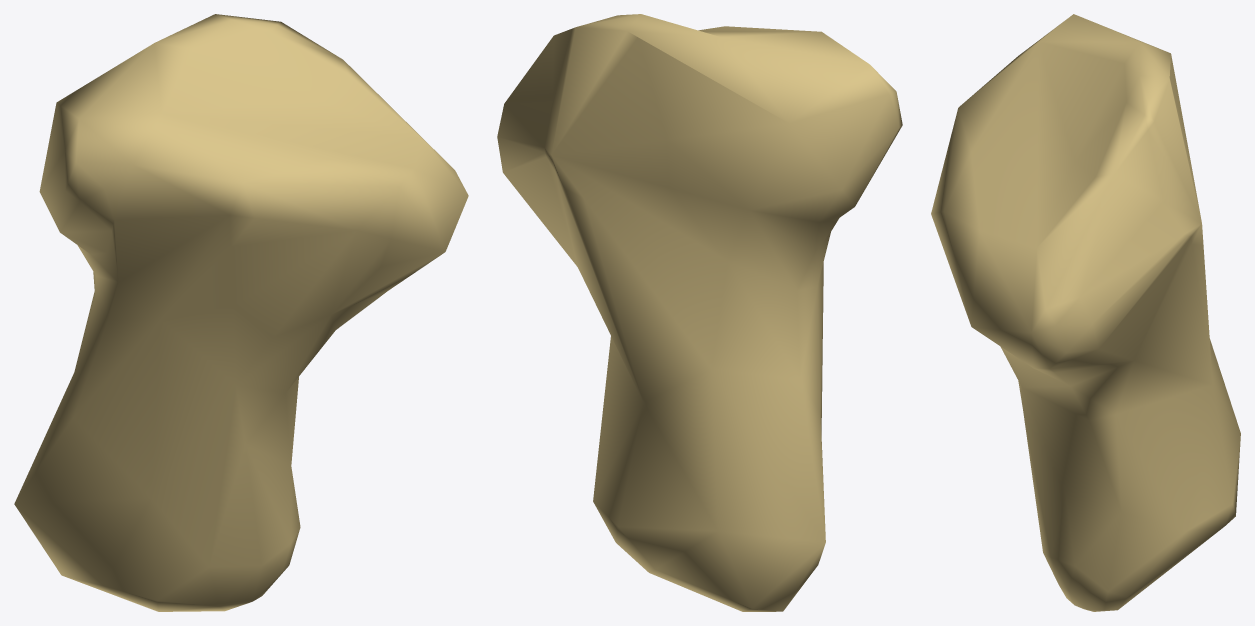
The picture shows the model from 3 angles, left to right: view 1: azimuth 30°, elevation 25°; view 2: azimuth 150°, elevation 25°; view 3: azimuth 270°, elevation 25°; orthographic projection. The views are drawn at different scales.
Visible parts, largest first — view 1: 右侧第五趾远节趾骨; view 2: 右侧第五趾远节趾骨; view 3: 右侧第五趾远节趾骨.
Boxes of the visible parts, x1,y1,x2,y2 form: 右侧第五趾远节趾骨: (14,14,468,611); 右侧第五趾远节趾骨: (497,14,902,611); 右侧第五趾远节趾骨: (931,14,1240,611).
Size of the model in its own units: 0.0116 by 0.0161 by 0.0083.
